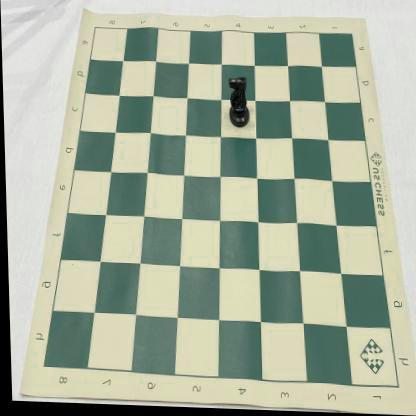black-knight: (226, 76, 250, 131)
